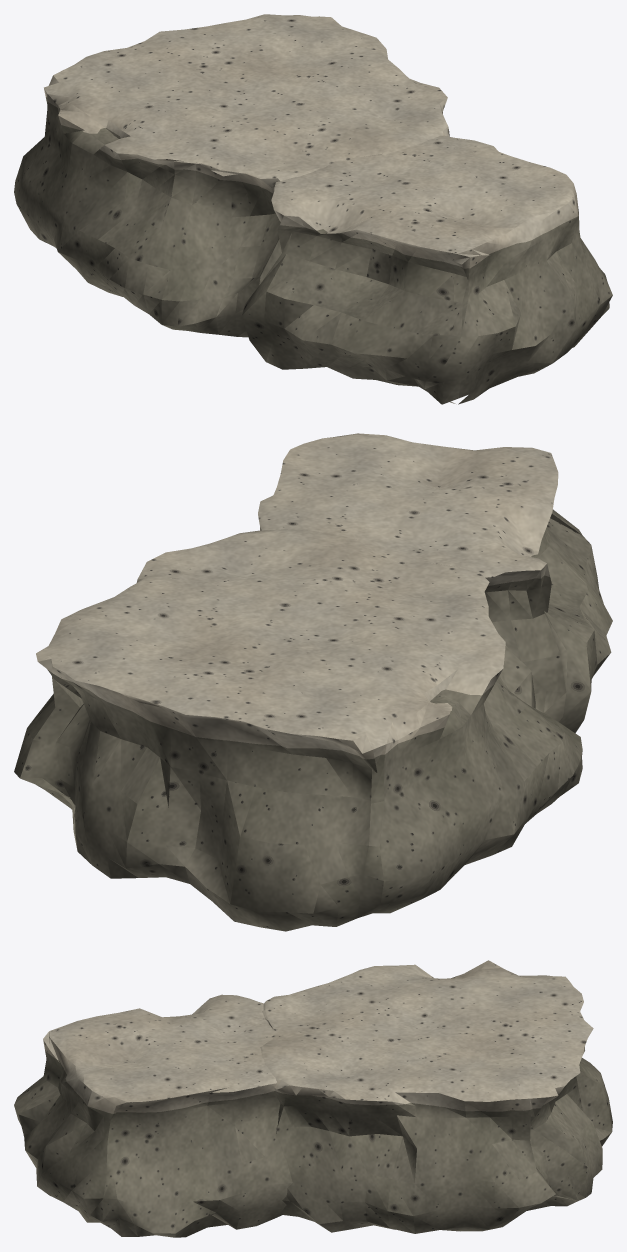
3 renders of one model, top to bottom at view 1: azimuth 30°, elevation 25°; view 2: azimuth 150°, elevation 25°; view 3: azimuth 270°, elevation 25°, orthographic. The views are drawn at different scales.
Parts seen in each view (by area): view 1: rock_wet, rock; view 2: rock, rock_wet; view 3: rock_wet, rock.
Part boxes in pixels (left/top/right/bottom): rock_wet: left=14, top=97, right=612, bottom=404; rock: left=44, top=14, right=578, bottom=268; rock: left=36, top=433, right=558, bottom=759; rock_wet: left=14, top=509, right=612, bottom=931; rock_wet: left=14, top=976, right=612, bottom=1237; rock: left=43, top=960, right=593, bottom=1113.
Size of the model in its own units: 3.12 by 1.38 by 4.65.
2 materials, 2 textured.
